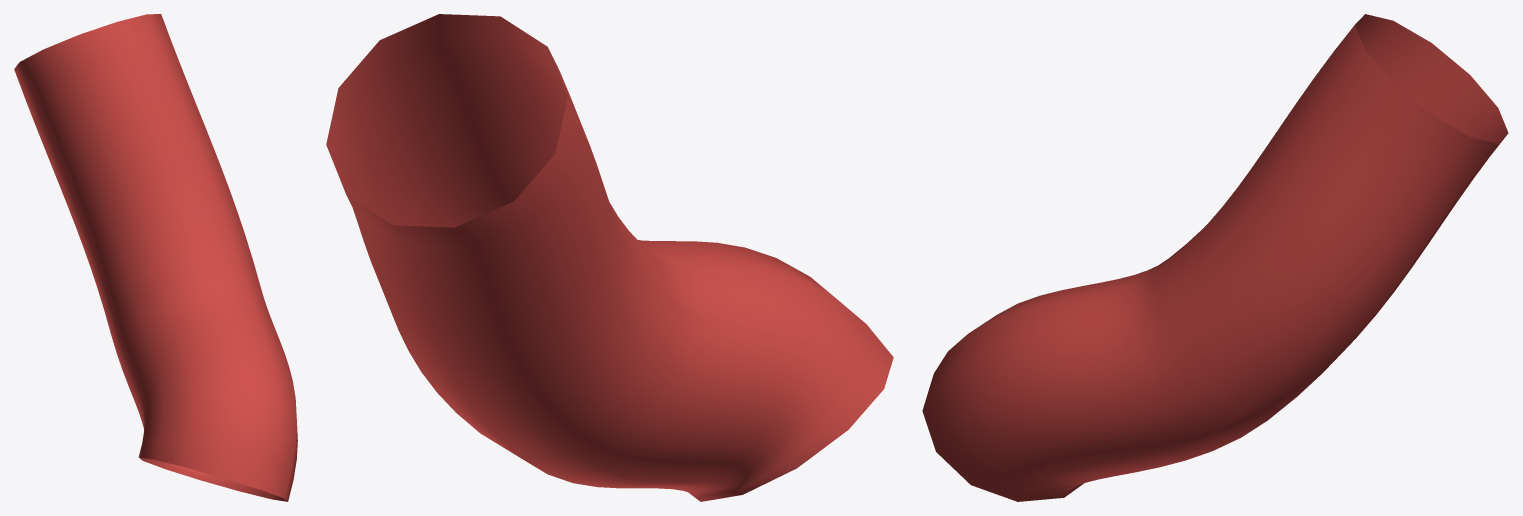
3 views of the same model, side by side, from view 1: azimuth 30°, elevation 25°; view 2: azimuth 150°, elevation 25°; view 3: azimuth 270°, elevation 25° (orthographic). The views are drawn at different scales.
Parts seen in each view (by area): view 1: 腹腔干; view 2: 腹腔干; view 3: 腹腔干.
Part boxes in pixels (bbox=[...]): 腹腔干: bbox=[14, 14, 297, 501]; 腹腔干: bbox=[326, 14, 893, 501]; 腹腔干: bbox=[922, 14, 1508, 501].
Size of the model in its own units: 0.0162 by 0.0317 by 0.0358.
